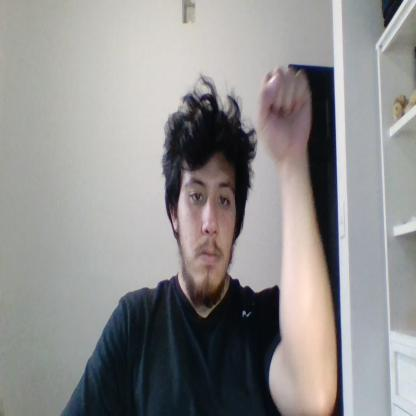S: (260, 66, 312, 156)
